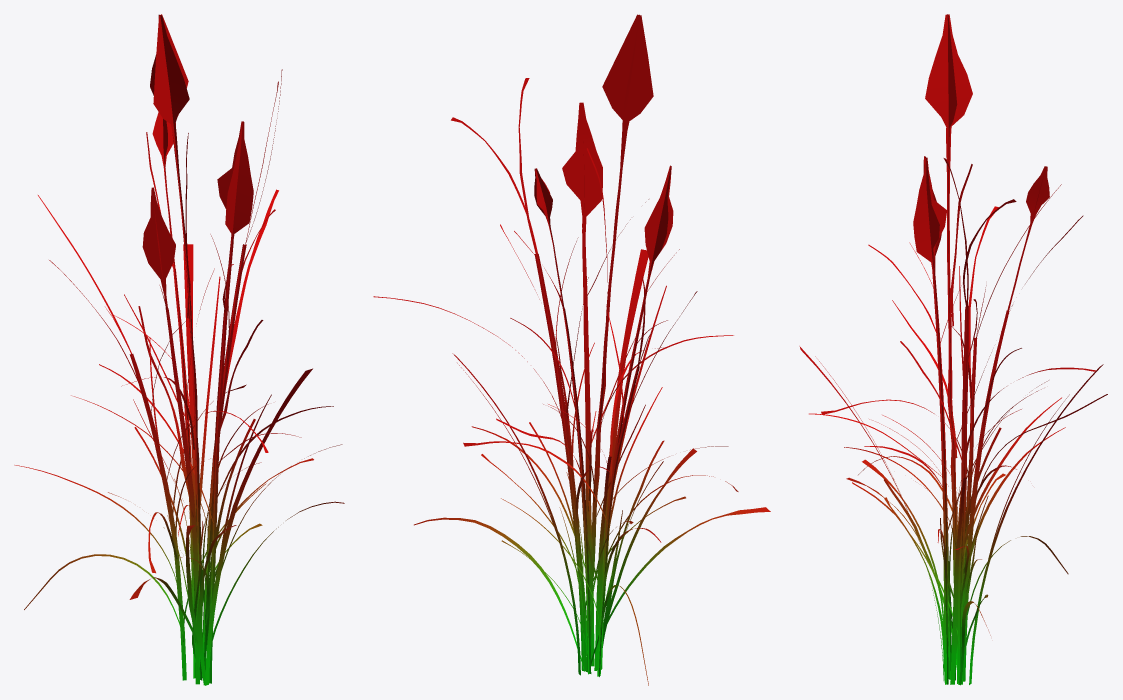
File: skFjJ_Var1_LOD0.fbx
3 views of the same model, side by side, from view 1: azimuth 30°, elevation 25°; view 2: azimuth 150°, elevation 25°; view 3: azimuth 270°, elevation 25° (orthographic). The views are drawn at different scales.
Parts seen in each view (by area): view 1: _70b4_Var1_LOD0; view 2: _70b4_Var1_LOD0; view 3: _70b4_Var1_LOD0.
Boxes of the visible parts, box(x1,y1,x2,y2) form: _70b4_Var1_LOD0: box(14, 14, 344, 685); _70b4_Var1_LOD0: box(373, 14, 770, 685); _70b4_Var1_LOD0: box(799, 14, 1107, 685).
Size of the model in its own units: 56.45 by 125 by 54.16.
